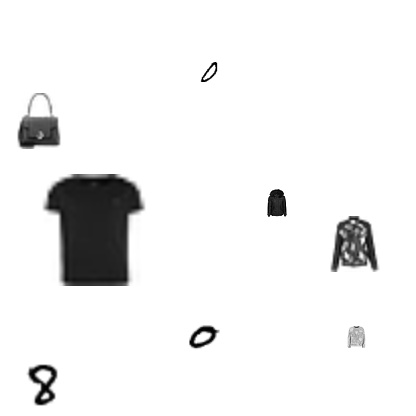0: (182, 315, 224, 357), (196, 58, 224, 86)
8: (15, 355, 71, 411)
Bag: (10, 93, 66, 149)
Coat: (327, 216, 383, 272), (263, 189, 291, 217)
Pullover: (345, 326, 367, 348)
T-shirt/top: (36, 174, 148, 286)
